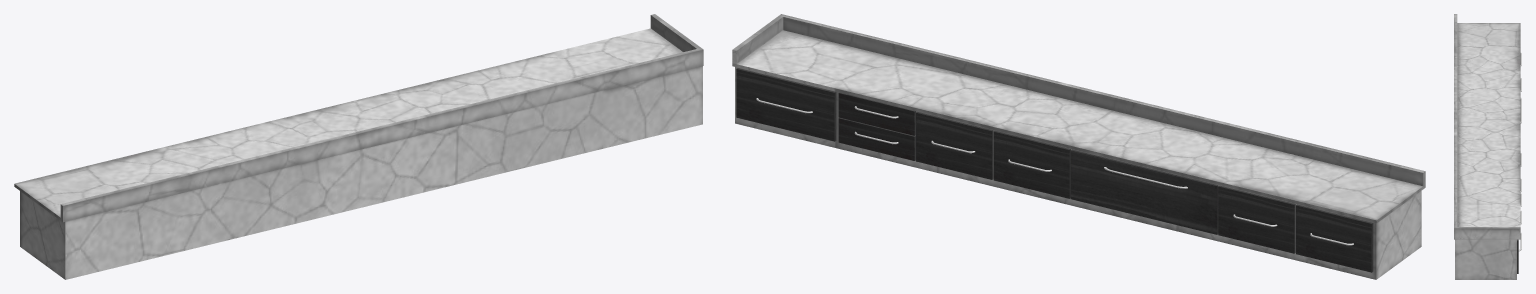
File: M_kabinetPisah.fbx
3 renders of one model, left to right at view 1: azimuth 30°, elevation 25°; view 2: azimuth 150°, elevation 25°; view 3: azimuth 270°, elevation 25°, orthographic. The views are drawn at different scales.
Parts seen in each view (by area): view 1: rak.001; view 2: rak.001; view 3: rak.001.
Part boxes in pixels (<box>): rak.001: <box>14,14,703,279</box>; rak.001: <box>732,14,1425,279</box>; rak.001: <box>1454,14,1521,279</box>.
Size of the model in its own units: 522 by 58.65 by 69.94.
